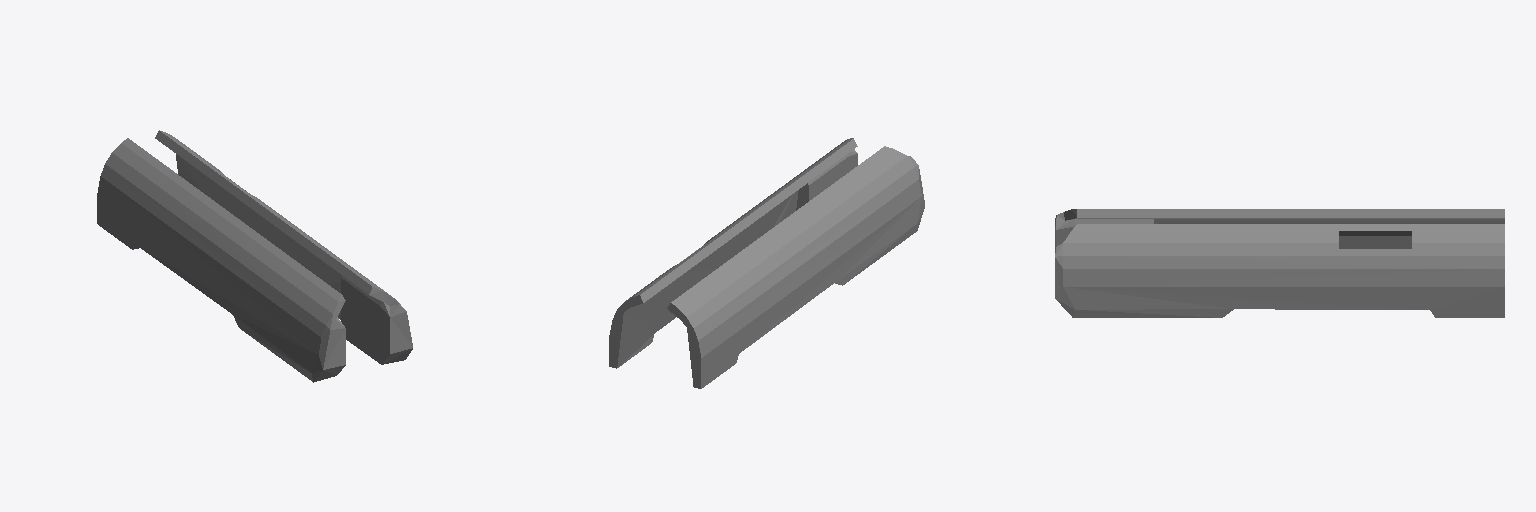
Rendered from action5.obj.
3 renders of one model, left to right at view 1: azimuth 30°, elevation 25°; view 2: azimuth 150°, elevation 25°; view 3: azimuth 270°, elevation 25°, orthographic.
Parts seen in each view (by area): view 1: action5; view 2: action5; view 3: action5.
Part boxes in pixels (bbox=[...]): action5: bbox=[97, 130, 412, 382]; action5: bbox=[609, 138, 924, 388]; action5: bbox=[1055, 209, 1504, 317].
Bounding box in the file's own units: 4.33 × 3.49 × 17.99.